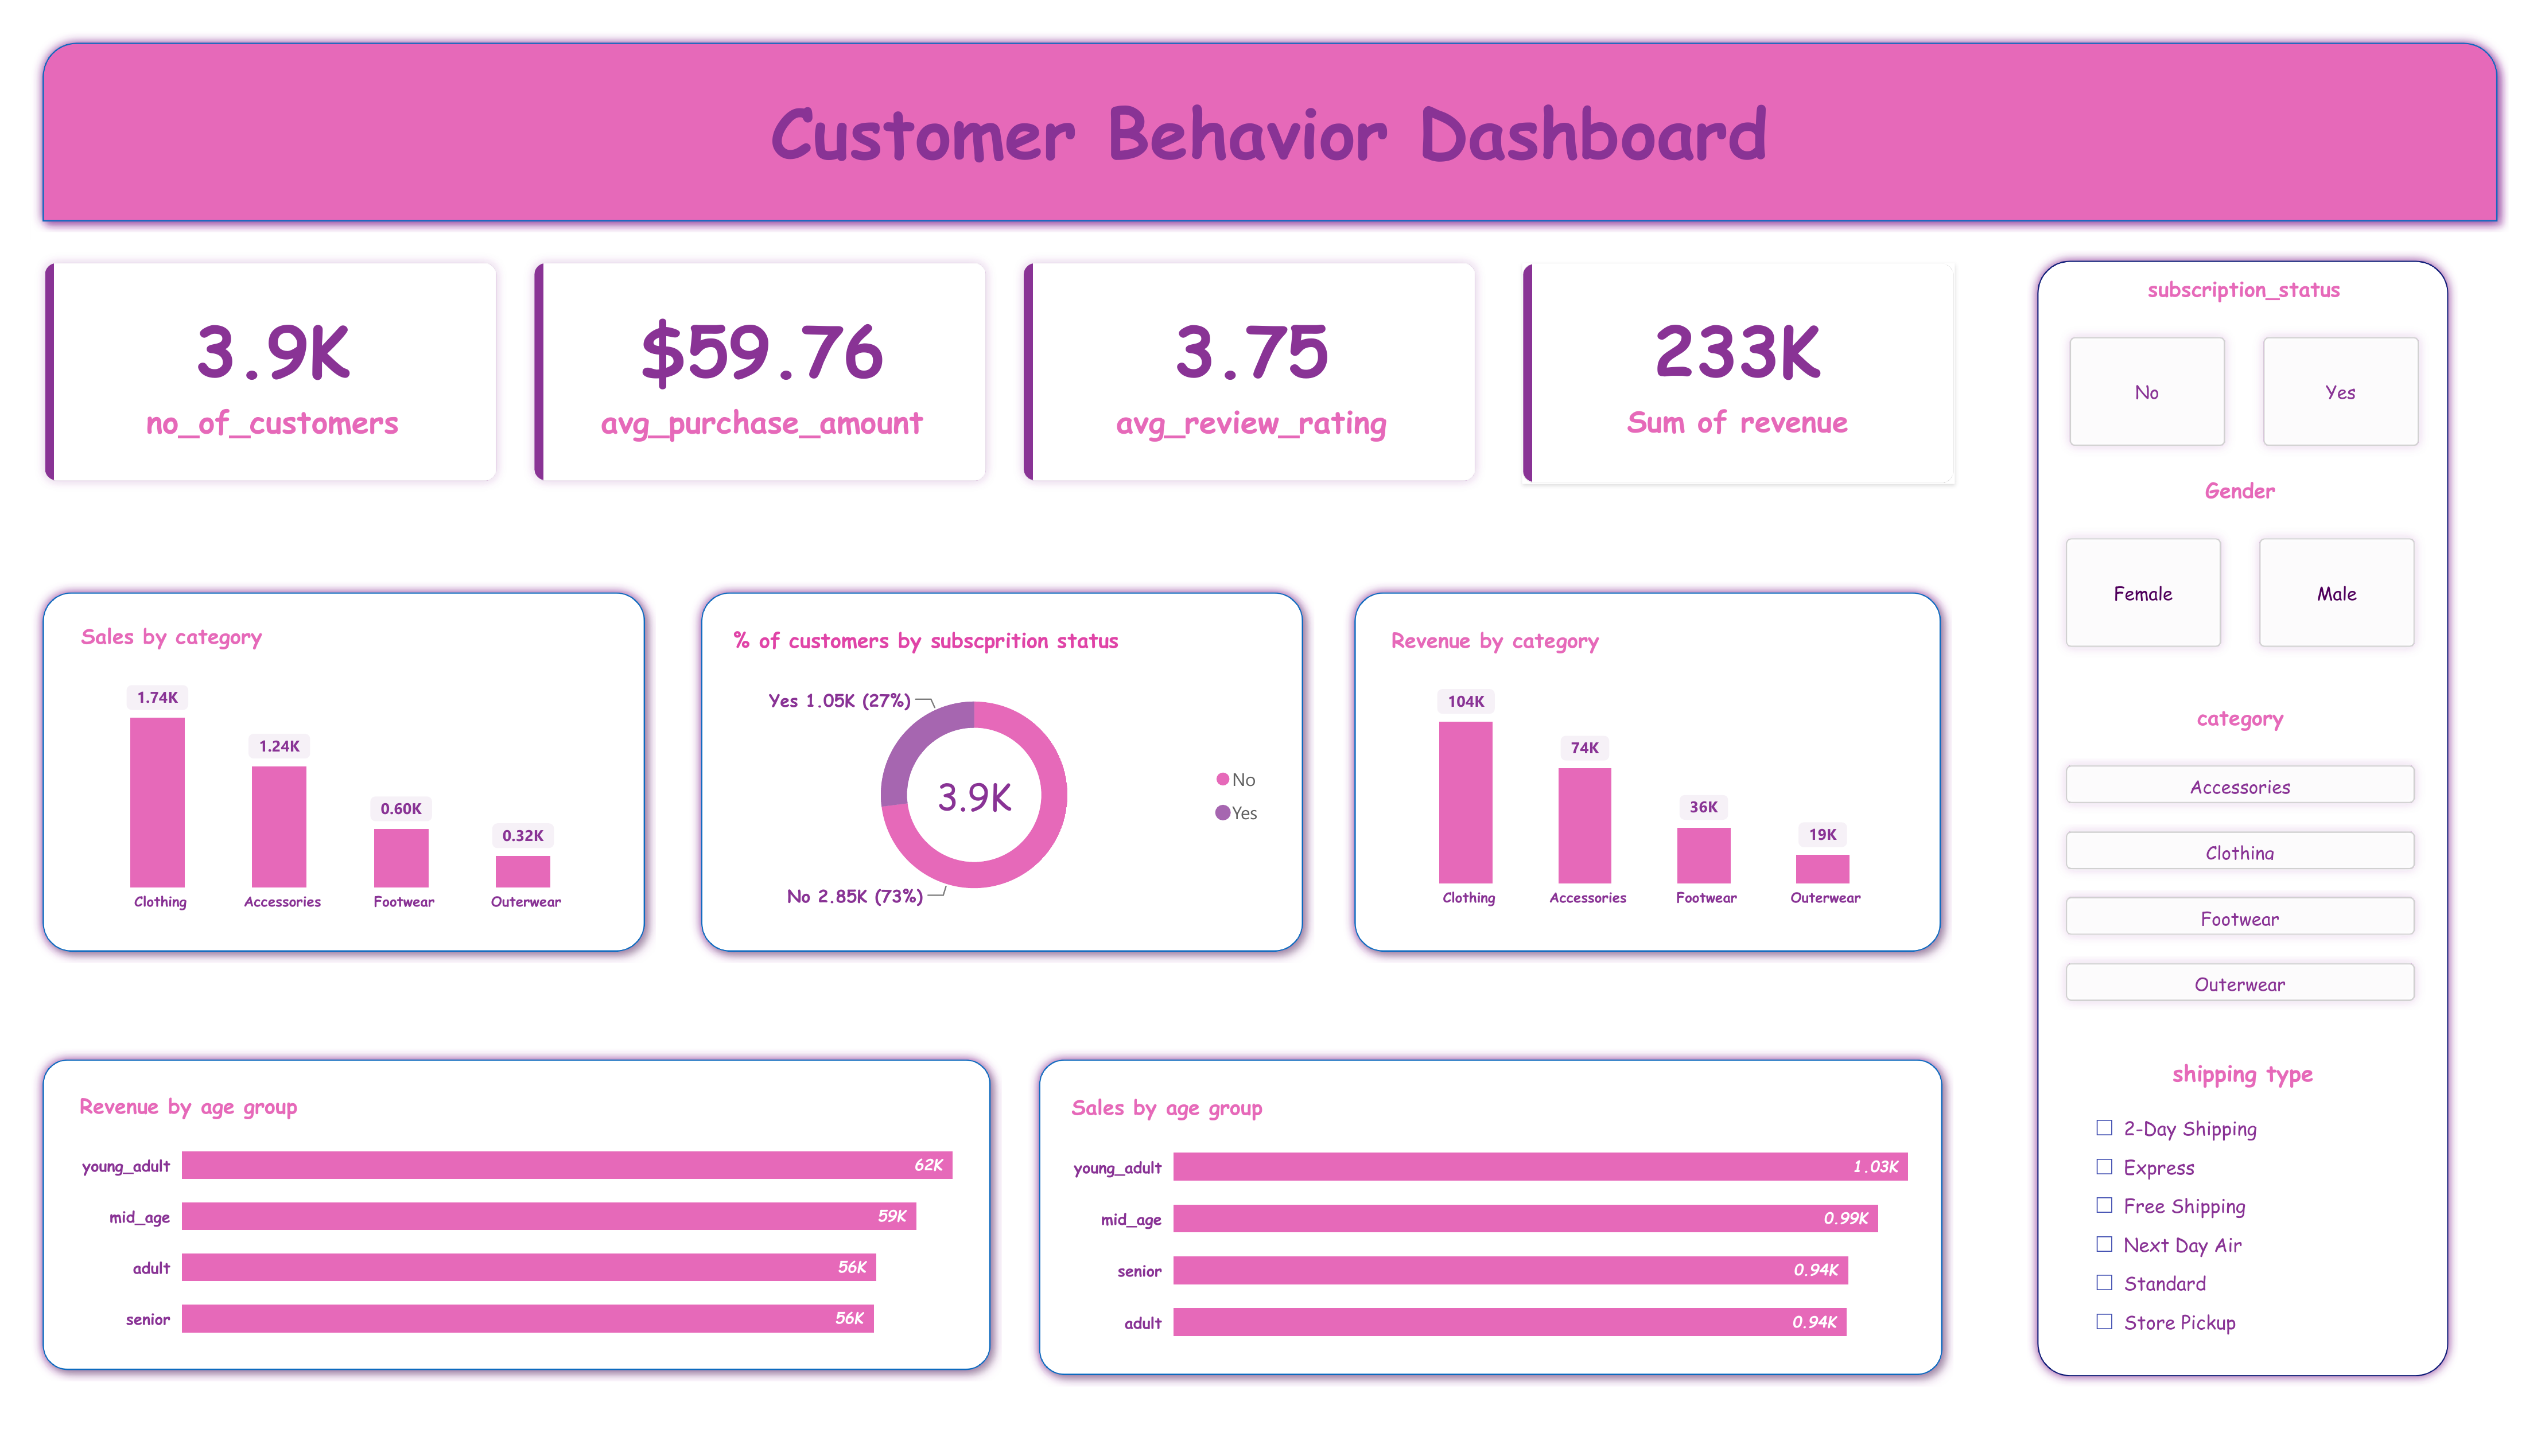

Layout of this report page (visuals, bound fields, positions):
{"tool":"powerbi","page":{"name":"Page 1","canvas":[1920,1080],"ordinal":0},"visuals":[{"type":"cardVisual","fields":{"Data":["customer_behaviour customers.no_of_customers","customer_behaviour customers.avg_purchase_amount","customer_behaviour customers.avg_review_rating"]},"box":[0,169.2,1130.2,190.1],"z":0},{"type":"shape","box":[1546,170,333.9,880.5],"z":0,"group":"g7"},{"type":"shape","box":[0,426,484,296],"z":0,"group":"g2"},{"type":"shape","box":[510,426,484,296],"z":0,"group":"g1"},{"type":"shape","box":[1016,426,472,296],"z":0,"group":"g3"},{"type":"shape","box":[0,788,752.4,258.4],"z":9,"group":"g5"},{"type":"shape","box":[772,788,716.7,261.7],"z":9,"group":"g6"},{"type":"group","id":"g1","title":"Group 3","box":[510,426,484,296],"z":14,"group":"g4"},{"type":"clusteredBarChart","title":"Revenue by age group","fields":{"Category":["customer_behaviour customers.age_group"],"Y":["Sum(customer_behaviour customers.purchase_amount)"]},"box":[22.5,807.2,707.4,219.9],"z":17,"group":"g5"},{"type":"clusteredBarChart","title":"Sales by age group","fields":{"Category":["customer_behaviour customers.age_group"],"Y":["CountNonNull(customer_behaviour customers.customer_id)"]},"box":[790.3,808,680.2,221.7],"z":17,"group":"g6"},{"type":"shape","box":[0,0,1919.3,156.1],"z":1000},{"type":"advancedSlicerVisual","fields":{"Values":["customer_behaviour customers.subscription_status"]},"box":[1567.9,187.7,292.8,145.1],"z":1000,"group":"g7"},{"type":"clusteredColumnChart","title":"Sales by category","fields":{"Category":["customer_behaviour customers.category"],"Y":["CountNonNull(customer_behaviour customers.customer_id)"]},"box":[22.8,443.4,438.4,261.2],"z":1000,"group":"g2"},{"type":"donutChart","title":"% of customers by subscprition status","fields":{"Category":["customer_behaviour customers.subscription_status"],"Y":["CountNonNull(customer_behaviour customers.customer_id)"]},"box":[528.4,446.4,447.1,255.2],"z":1000,"group":"g1"},{"type":"clusteredColumnChart","title":"Revenue by category","fields":{"Category":["customer_behaviour customers.category"],"Y":["Sum(customer_behaviour customers.purchase_amount)"]},"box":[1037.8,446.4,428.4,255.3],"z":1000,"group":"g3"},{"type":"group","id":"g2","title":"Group 1","box":[0,426,484,296],"z":1500},{"type":"textbox","box":[0,40.4,1919.3,86],"z":2000},{"type":"advancedSlicerVisual","title":"Gender","fields":{"Values":["customer_behaviour customers.gender"]},"box":[1565.1,344.1,292.8,145.1],"z":2000,"group":"g7"},{"type":"advancedSlicerVisual","fields":{"Values":["customer_behaviour customers.category"]},"box":[1565.1,519.5,292.7,242.9],"z":3000,"group":"g7"},{"type":"group","id":"g3","title":"Group 1","box":[1016,426,472,296],"z":4000},{"type":"listSlicer","title":"shipping type","fields":{"Values":["customer_behaviour customers.shipping_type"]},"box":[1583.4,781,260.7,253],"z":4000,"group":"g7"},{"type":"group","id":"g4","title":"Group 2","box":[510,426,484,296],"z":5000},{"type":"group","id":"g5","title":"Group 4","box":[0,788,752,258],"z":6000},{"type":"group","id":"g6","title":"Group 4","box":[772,788,716,262],"z":7000},{"type":"group","id":"g7","title":"Group 5","box":[1546,170,334,880],"z":8000},{"type":"cardVisual","fields":{"Data":["Sum(customer_behaviour customers.purchase_amount)"]},"box":[1154.7,179.7,334.9,170.9],"z":8001}]}

Visuals, with their boxes in screenshot pixels (x1, y1, x2, y2), scaled from the page's 1920x1080 canvas onto the 2541x1456 screenshot:
cardVisual - customer_behaviour customers.no_of_customers x customer_behaviour customers.avg_purchase_amount: [0,228,1496,484]
shape: [2046,229,2488,1416]
shape: [0,574,640,974]
shape: [675,574,1315,974]
shape: [1345,574,1969,974]
shape: [0,1062,996,1411]
shape: [1021,1062,1970,1415]
"Group 3" group: [675,574,1315,974]
"Revenue by age group" clusteredBarChart: [30,1088,966,1385]
"Sales by age group" clusteredBarChart: [1046,1089,1946,1388]
shape: [0,0,2540,211]
advancedSlicerVisual - customer_behaviour customers.subscription_status: [2075,253,2462,449]
"Sales by category" clusteredColumnChart: [30,598,611,950]
"% of customers by subscprition status" donutChart: [700,602,1291,946]
"Revenue by category" clusteredColumnChart: [1373,602,1940,946]
"Group 1" group: [0,574,640,974]
textbox: [0,54,2540,170]
"Gender" advancedSlicerVisual: [2072,464,2459,660]
advancedSlicerVisual - customer_behaviour customers.category: [2072,700,2459,1028]
"Group 1" group: [1345,574,1969,974]
"shipping type" listSlicer: [2096,1053,2441,1394]
"Group 2" group: [675,574,1315,974]
"Group 4" group: [0,1062,995,1410]
"Group 4" group: [1021,1062,1969,1416]
"Group 5" group: [2046,229,2488,1416]
cardVisual - Sum(customer_behaviour customers.purchase_amount): [1528,242,1971,473]
